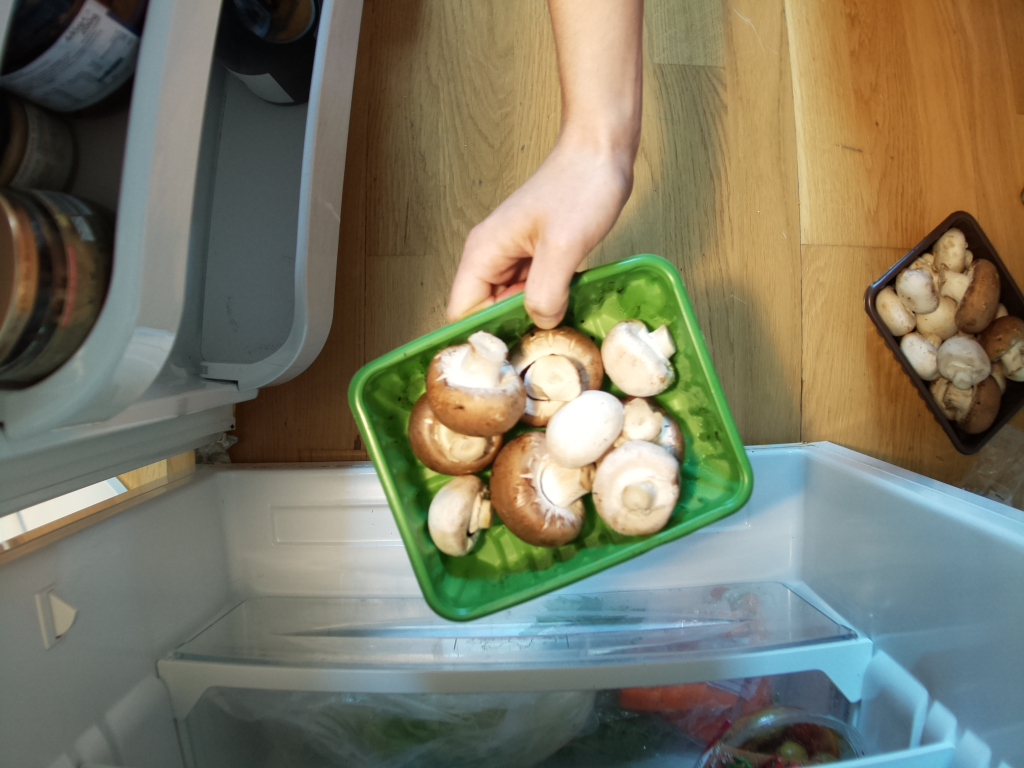mushrooms: (378, 290, 701, 563), (869, 225, 1024, 449)
